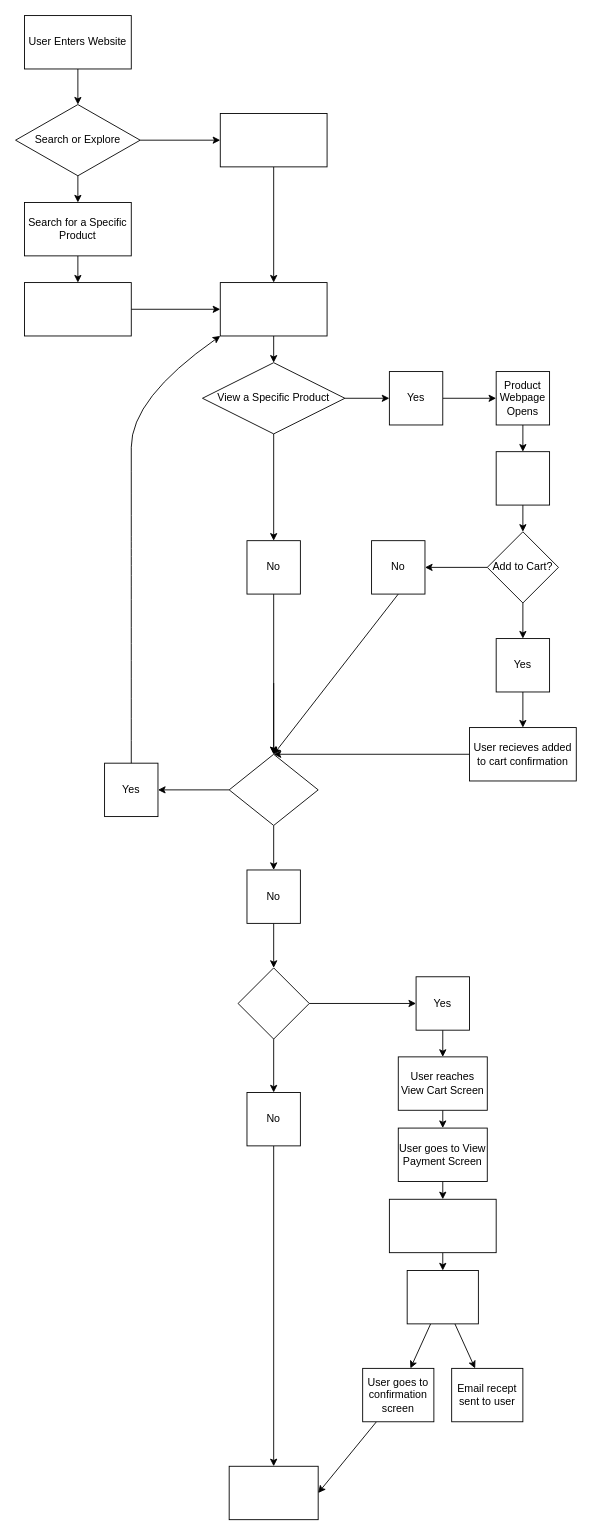
The diagram is 592 pixels wide and 1535 high, and some of its shapes have lost their labels. The shapes that lost their labels are listed below. From the top down, each one's centre as x and y in pixels, then its label:
[273,140]: Explore Products on Home Page
[77,309]: User inputs their search
[273,309]: User looks over products
[522,478]: User Views Product
[273,789]: Continue Shopping?
[273,1003]: Checkout?
[442,1225]: User inputs Payment Information
[442,1297]: User pays
[273,1492]: User Leaves Website
